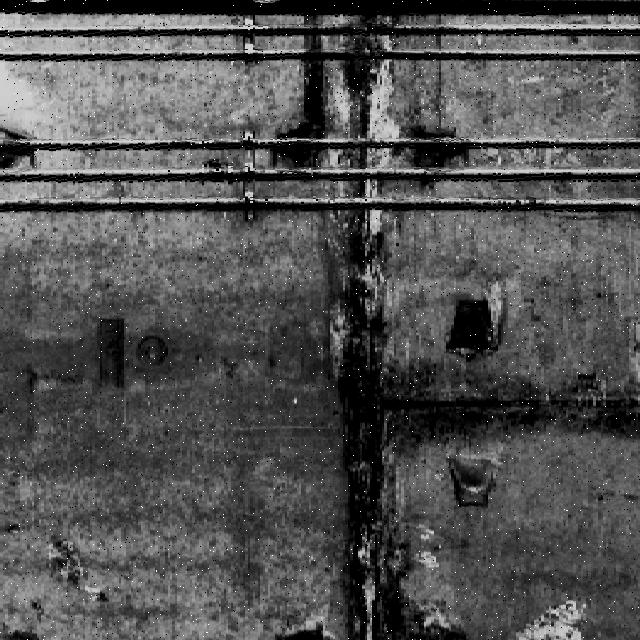leakage: (296, 2, 440, 640)
